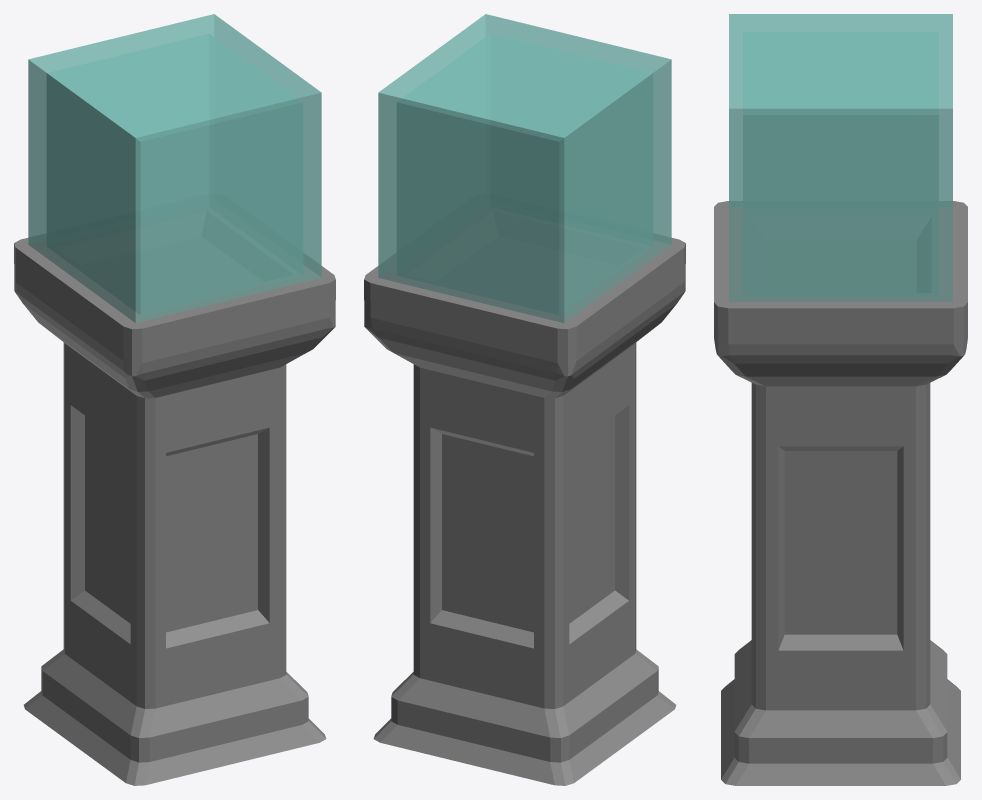
The model's file is treasureStand.fbx.
3 renders of one model, left to right at view 1: azimuth 30°, elevation 25°; view 2: azimuth 150°, elevation 25°; view 3: azimuth 270°, elevation 25°, orthographic. The views are drawn at different scales.
Visible parts, largest first — view 1: Cube.001, Cube.004; view 2: Cube.001, Cube.004; view 3: Cube.001, Cube.004.
Boxes of the visible parts, x1=… form: Cube.001: x1=14, y1=208, x2=335, y2=785; Cube.004: x1=28, y1=14, x2=321, y2=322; Cube.001: x1=364, y1=208, x2=685, y2=785; Cube.004: x1=378, y1=14, x2=671, y2=322; Cube.001: x1=714, y1=201, x2=967, y2=785; Cube.004: x1=729, y1=14, x2=952, y2=301.
Size of the model in its own units: 284 by 832 by 284.
